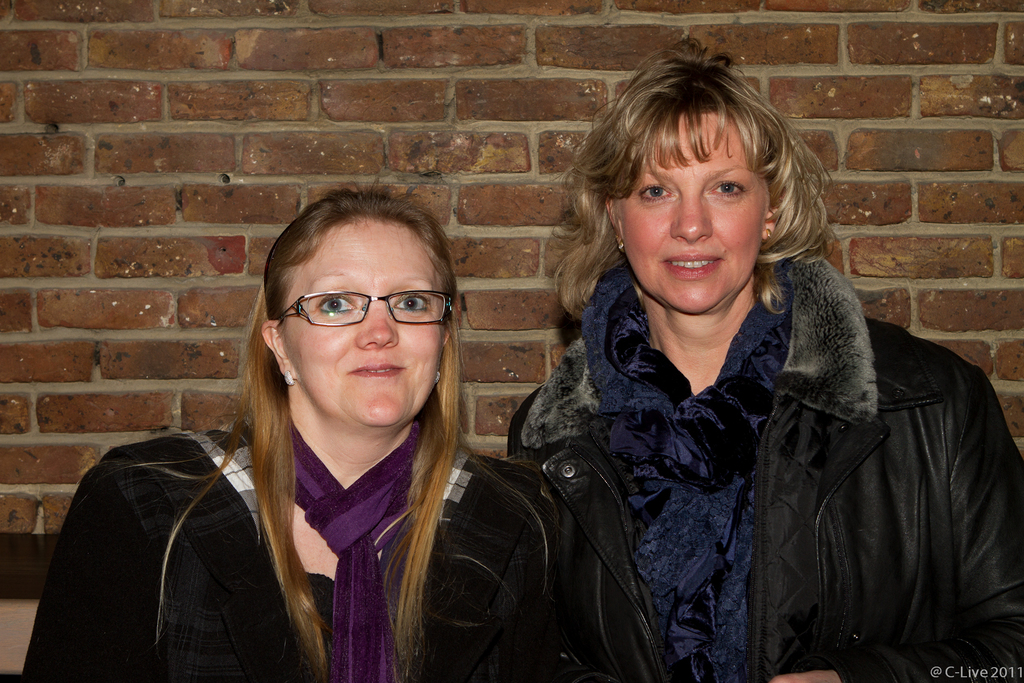Human-face: (287, 217, 448, 427), (620, 110, 760, 313)
